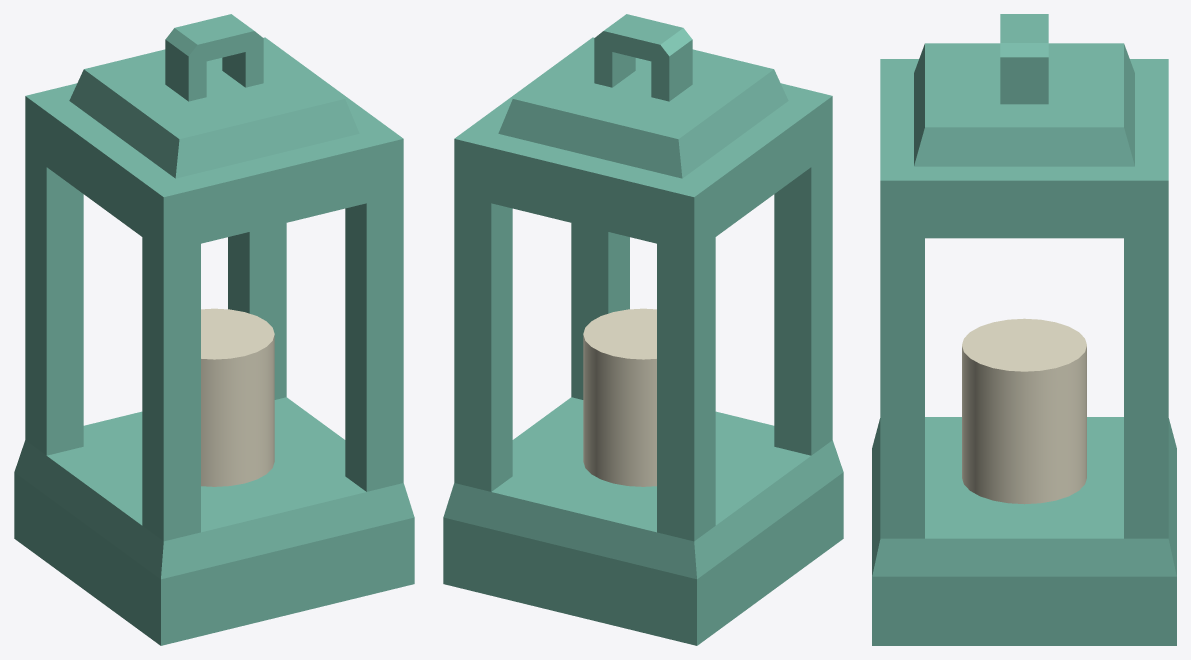
The model's file is lanternCandle.fbx.
3 views of the same model, side by side, from view 1: azimuth 30°, elevation 25°; view 2: azimuth 150°, elevation 25°; view 3: azimuth 270°, elevation 25° (orthographic). The views are drawn at different scales.
Parts seen in each view (by area): view 1: lanternCandle; view 2: lanternCandle; view 3: lanternCandle.
Boxes of the visible parts, box(x1,y1,x2,y2) form: lanternCandle: box(14, 14, 414, 645); lanternCandle: box(443, 14, 843, 645); lanternCandle: box(872, 14, 1176, 645).
Size of the model in its own units: 1.46 by 2.92 by 1.46.
